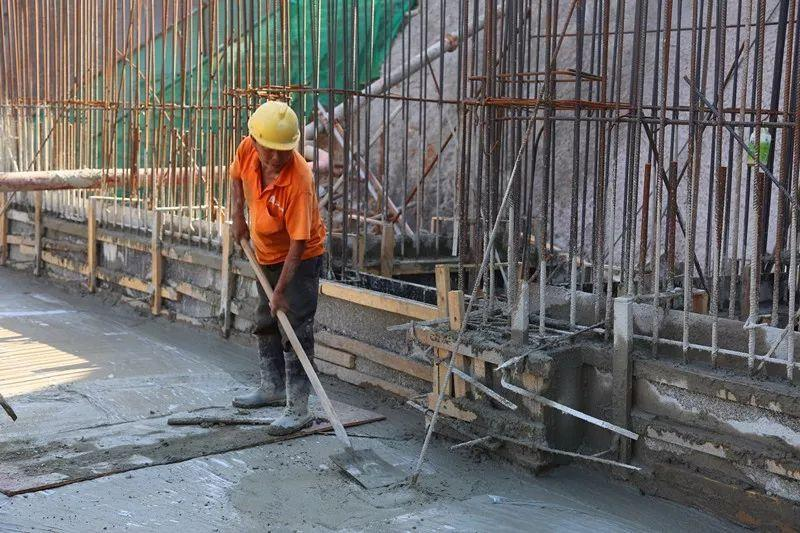helmet: (249, 101, 304, 153)
